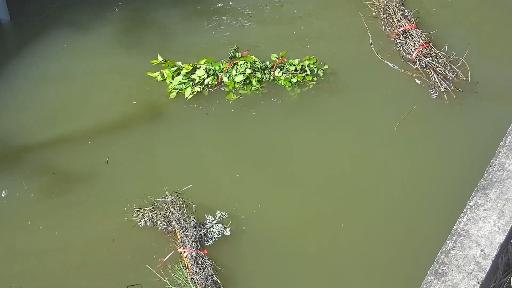twig: (332, 0, 474, 109), (141, 175, 240, 288), (136, 40, 318, 86)
